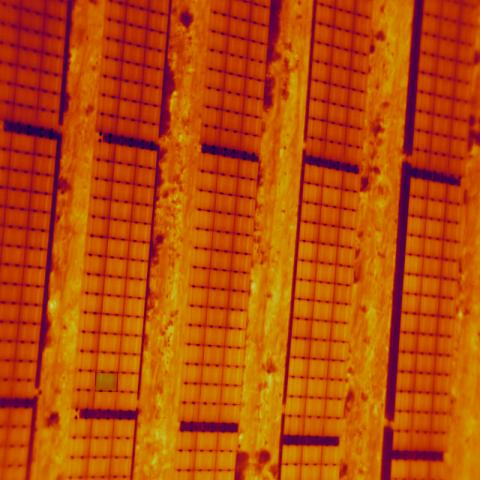fault: (95, 372, 118, 392)
